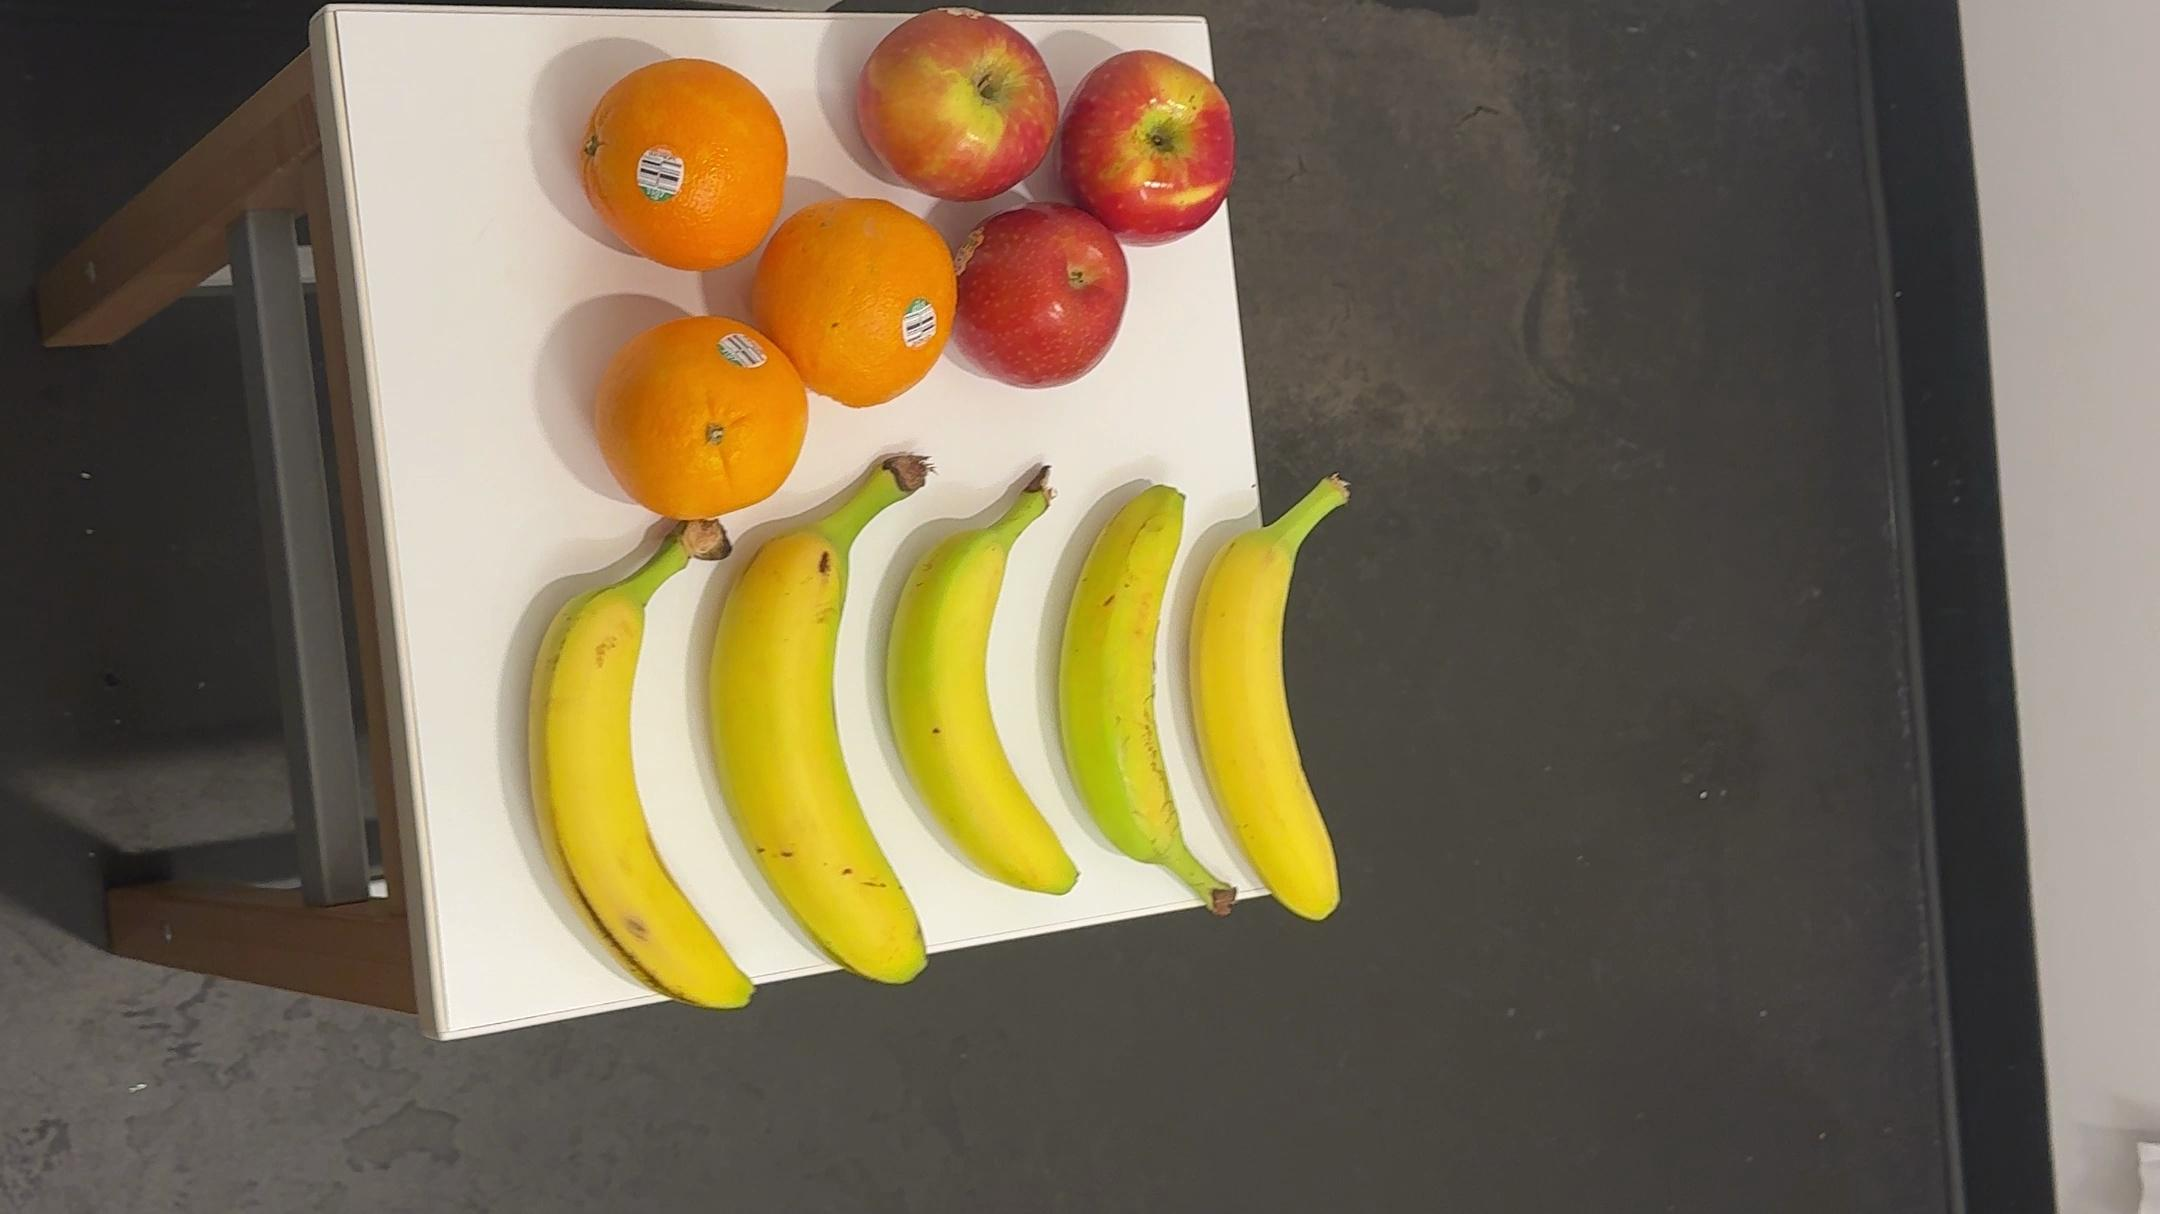apple: (1055, 49, 1251, 243), (949, 187, 1136, 390), (865, 9, 1053, 206)
banana: (504, 511, 773, 1026), (705, 450, 949, 1009), (898, 463, 1087, 923), (1059, 473, 1251, 922), (1196, 469, 1374, 926)
orange: (567, 43, 797, 292), (593, 309, 803, 537), (765, 193, 952, 417)
